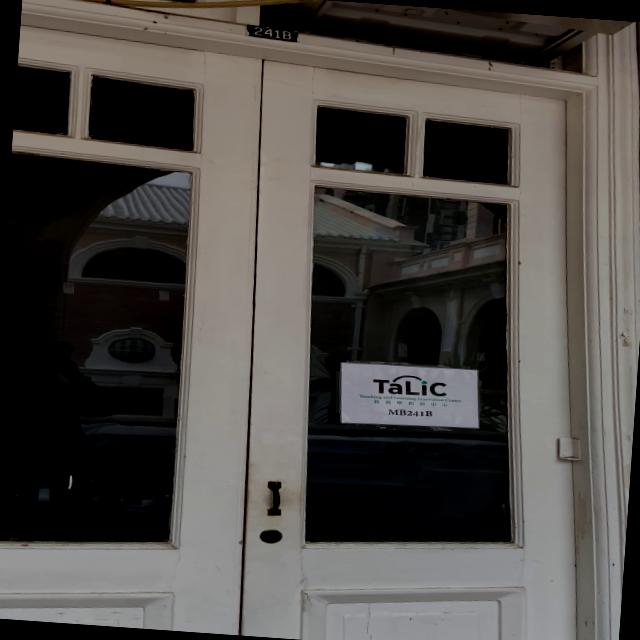room241b: (242, 22, 300, 44)
